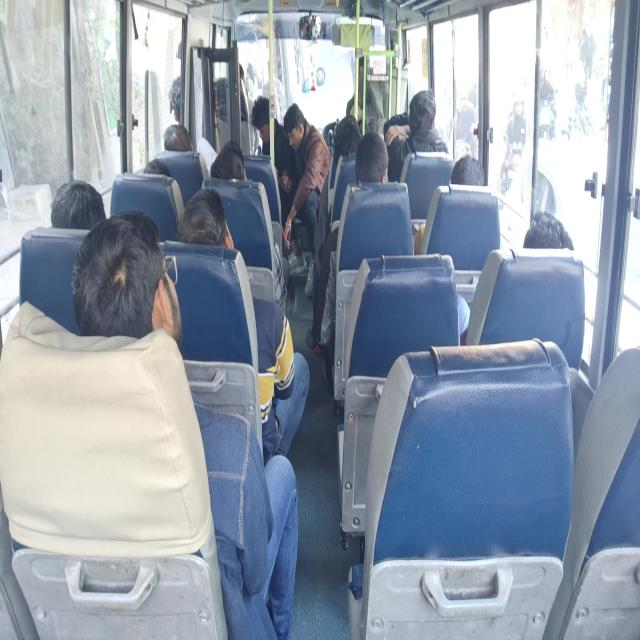person: (86, 221, 172, 337), (46, 165, 103, 230), (175, 200, 231, 252), (406, 81, 436, 151), (524, 212, 569, 256), (166, 80, 202, 122), (357, 146, 393, 183), (452, 155, 487, 193), (159, 118, 195, 150), (252, 104, 278, 142), (215, 150, 246, 180), (283, 112, 303, 149), (332, 118, 354, 149), (134, 156, 164, 175), (230, 60, 245, 83)
